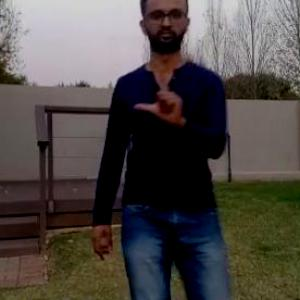land_hand: (126, 70, 187, 132)
